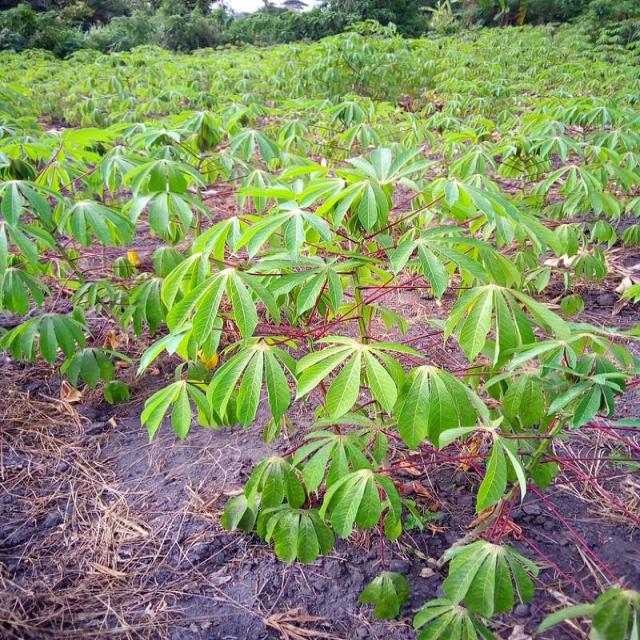cassava leaf: (1, 16, 638, 629), (395, 363, 479, 451)
